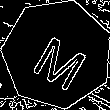M_NE: (24, 21, 90, 87)
